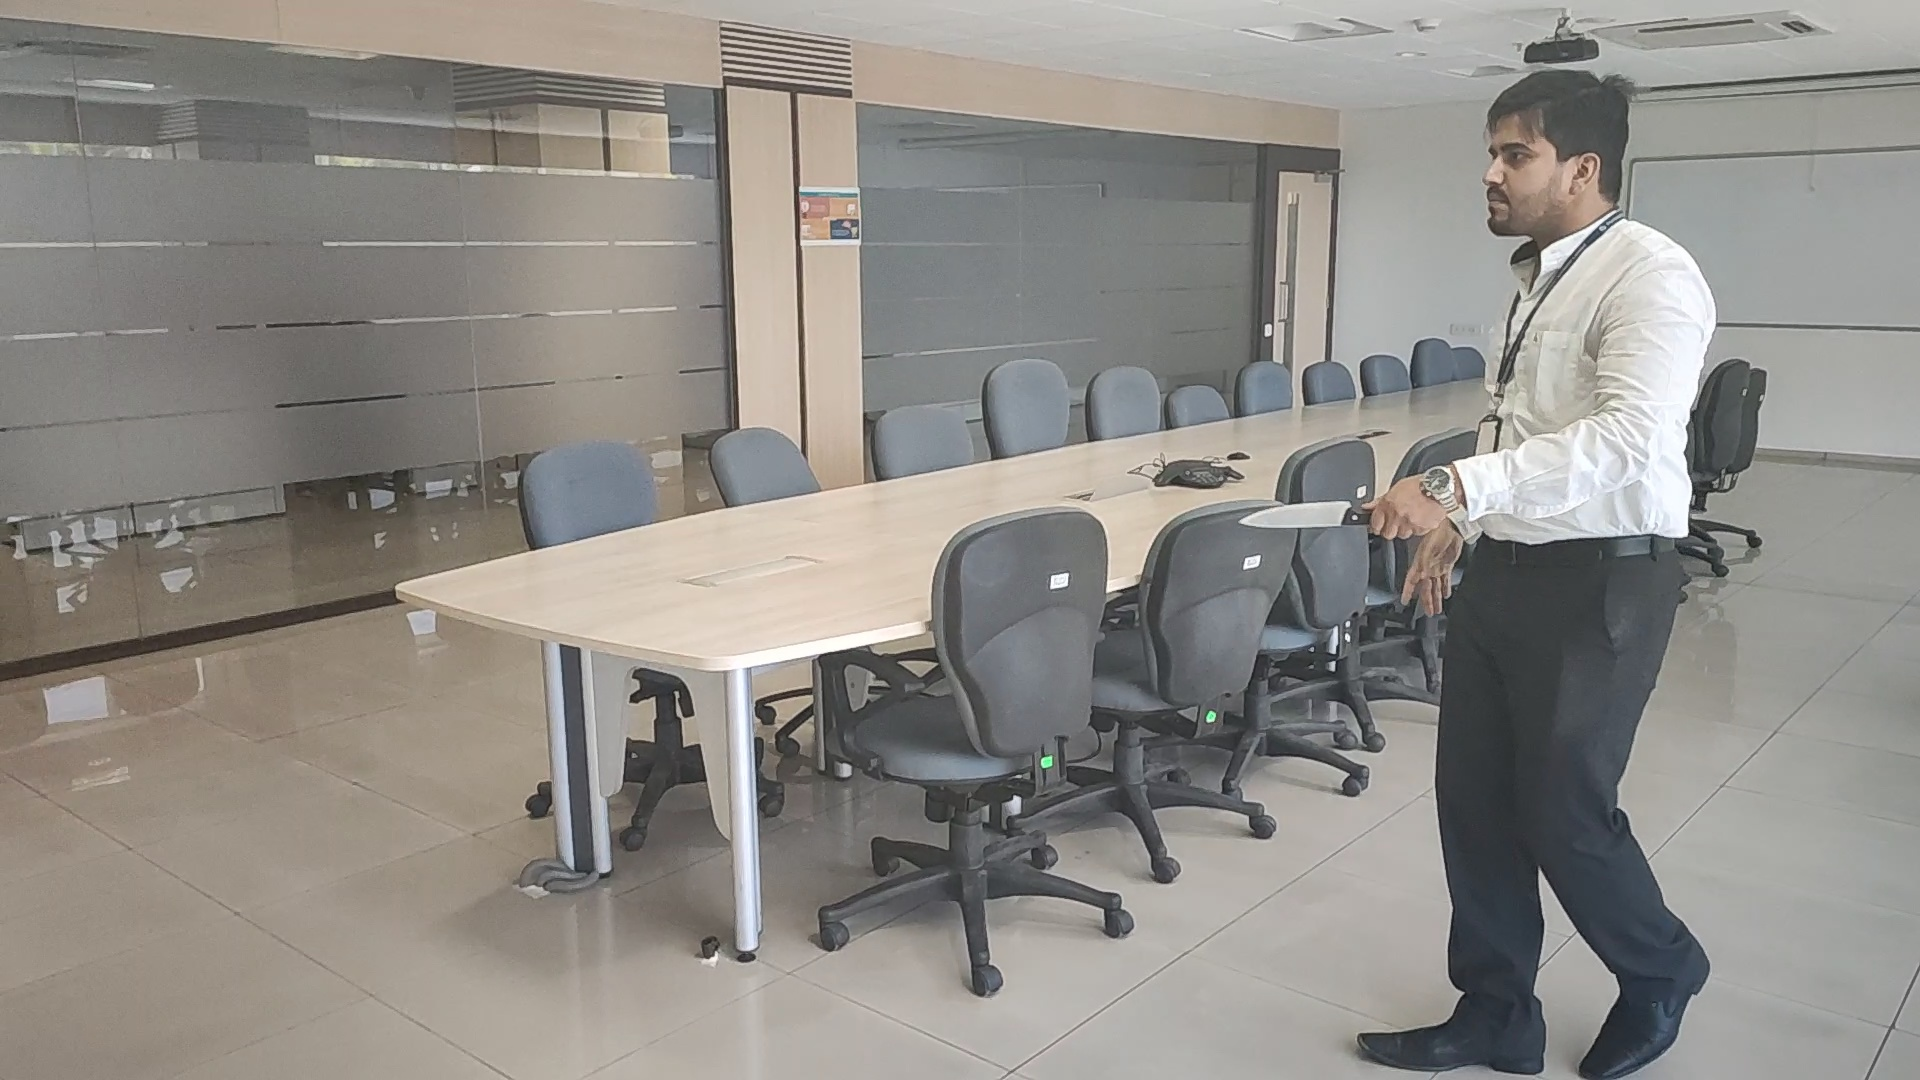knife: (1237, 498, 1360, 529)
